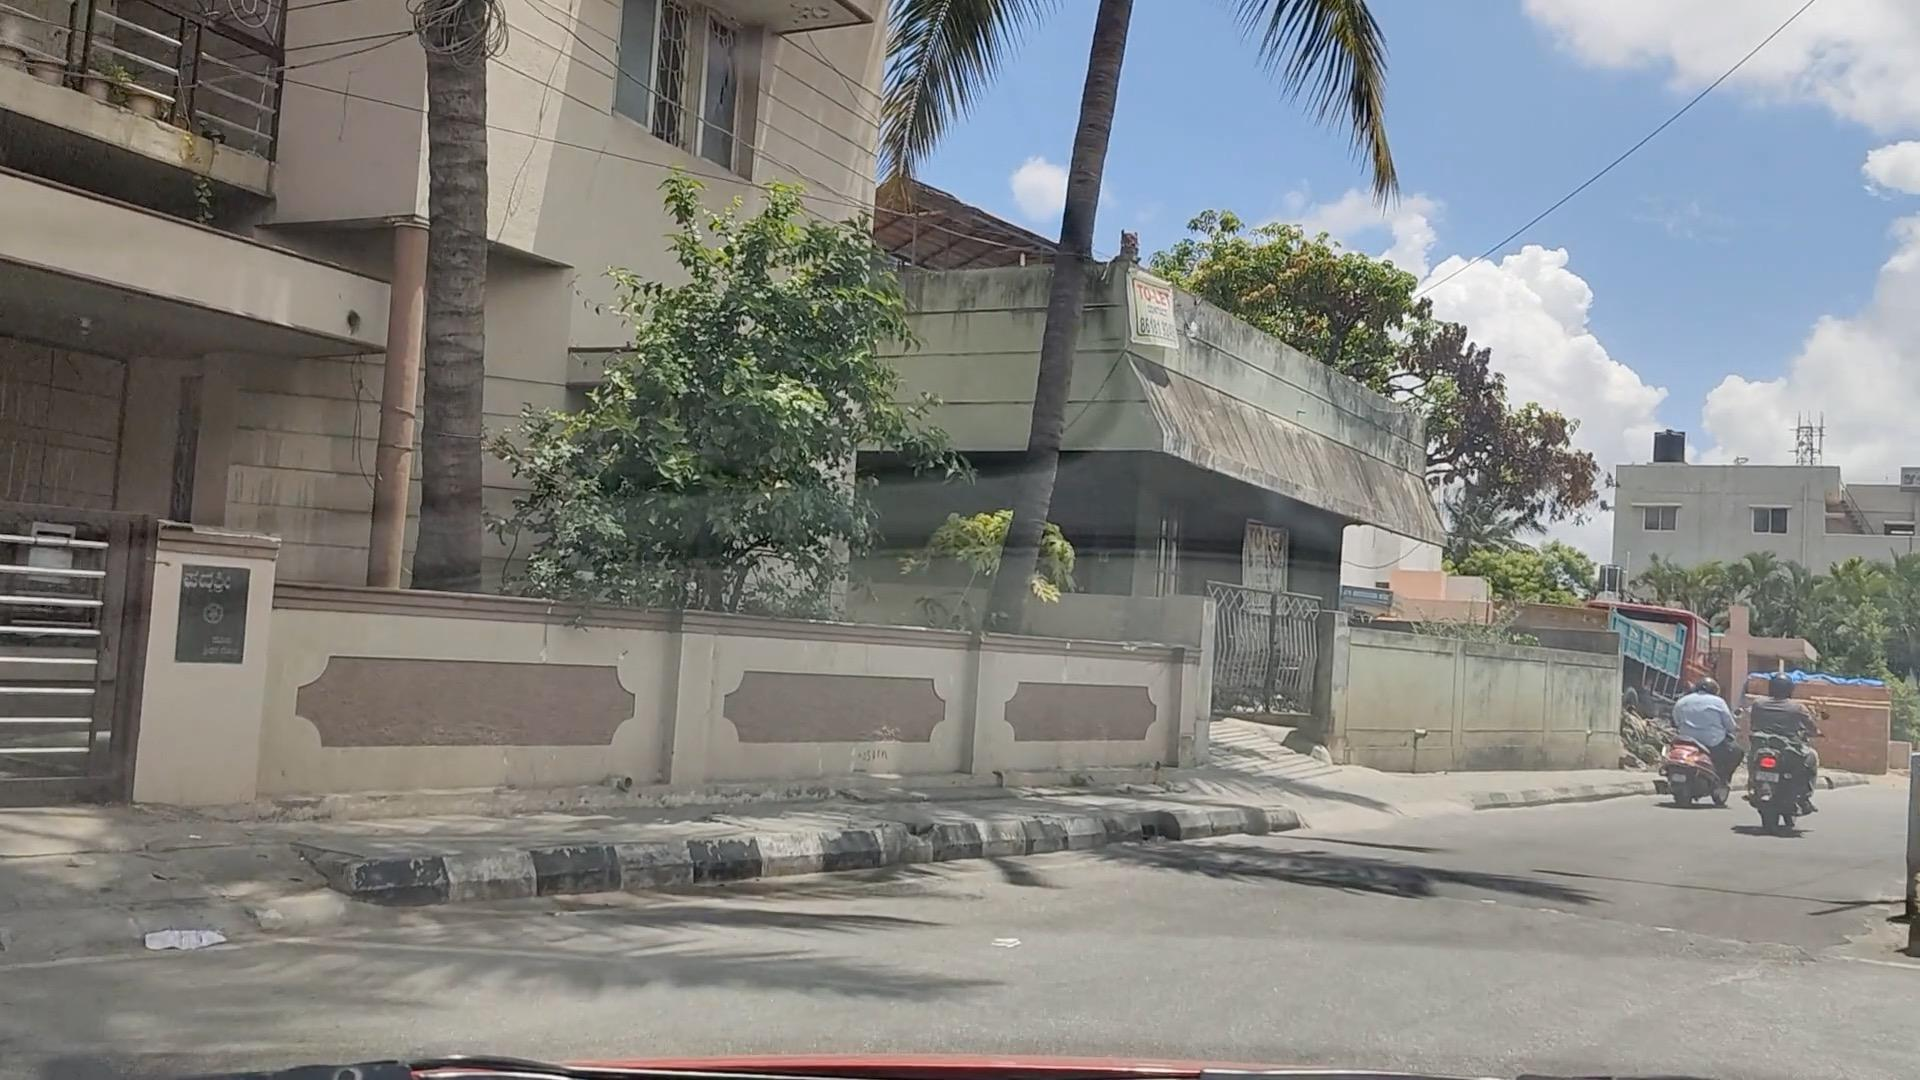RoadDamages: (1717, 870, 1869, 1015)
